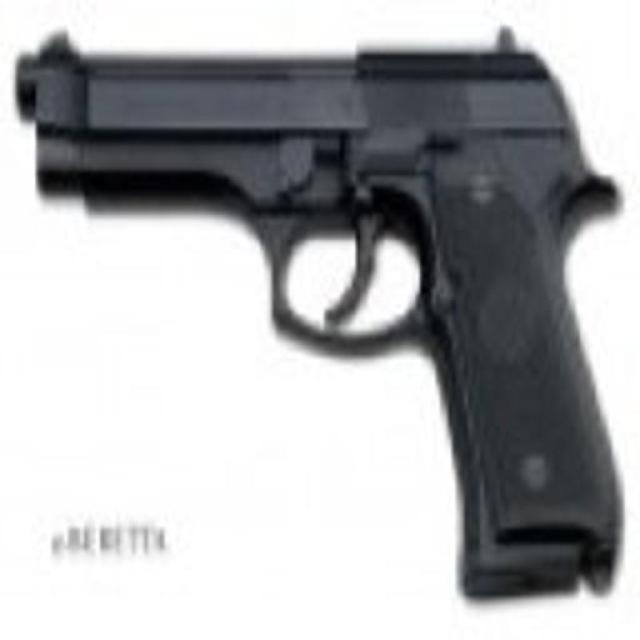pistol: (11, 26, 623, 602)
